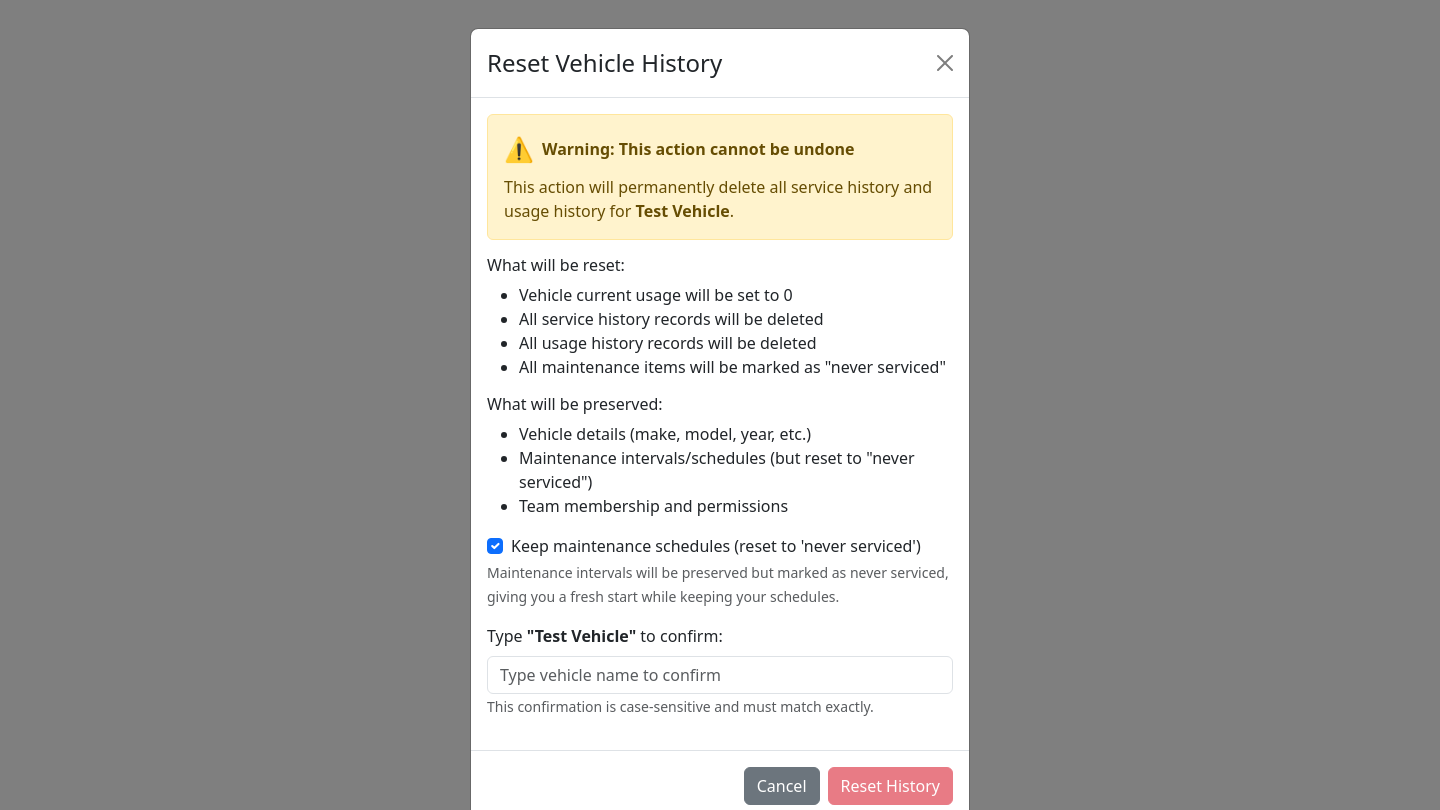
Test: ResetVehicleHistoryModal › Error Handling › should show error message on reset failure
The width and height of the screenshot is (1440, 810).
Type "Test Vehicle" into the field with placeholder "Type vehicle name to confirm" at [720, 675], box [487, 656, 953, 694]
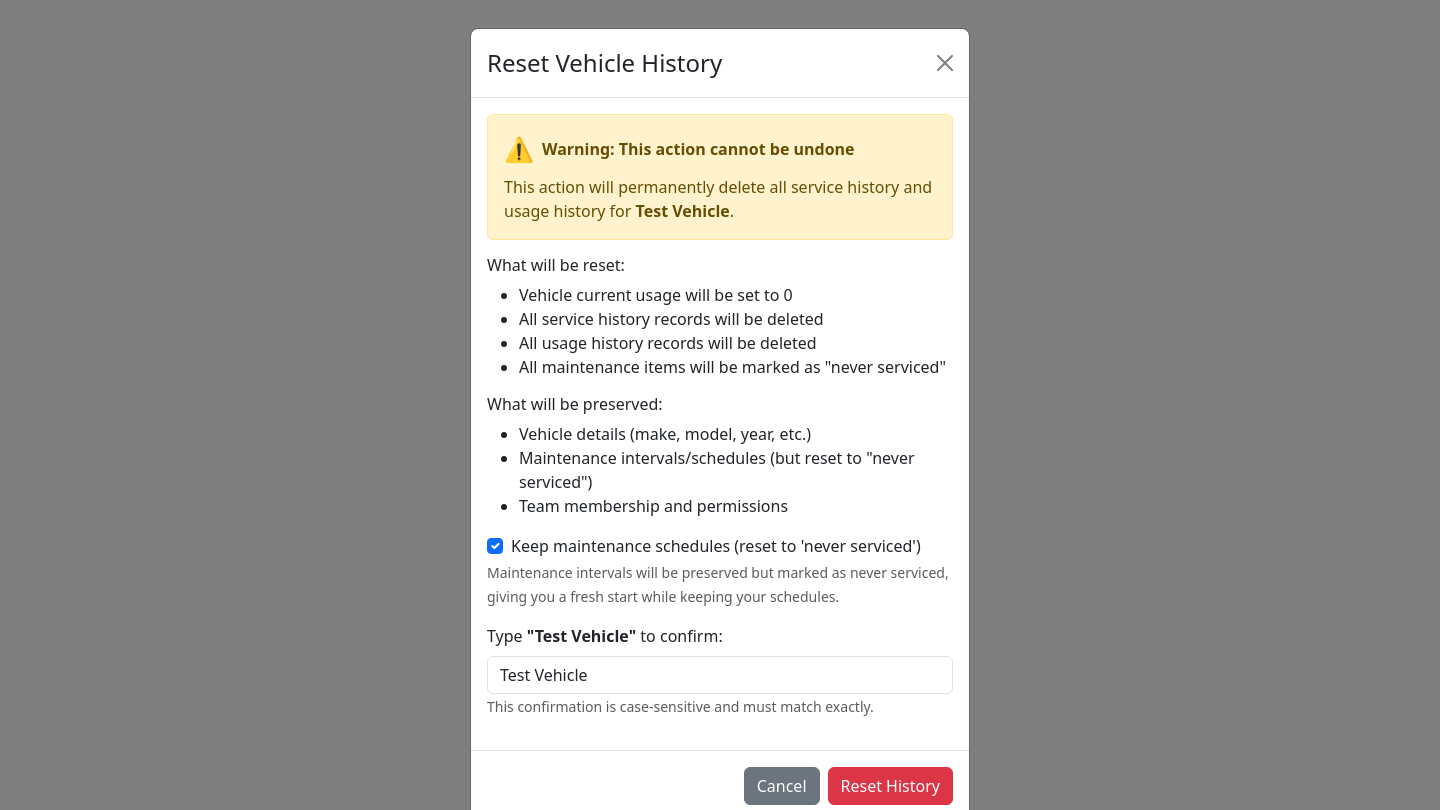
Click the button "Reset History" at [890, 786], box [828, 767, 953, 805]
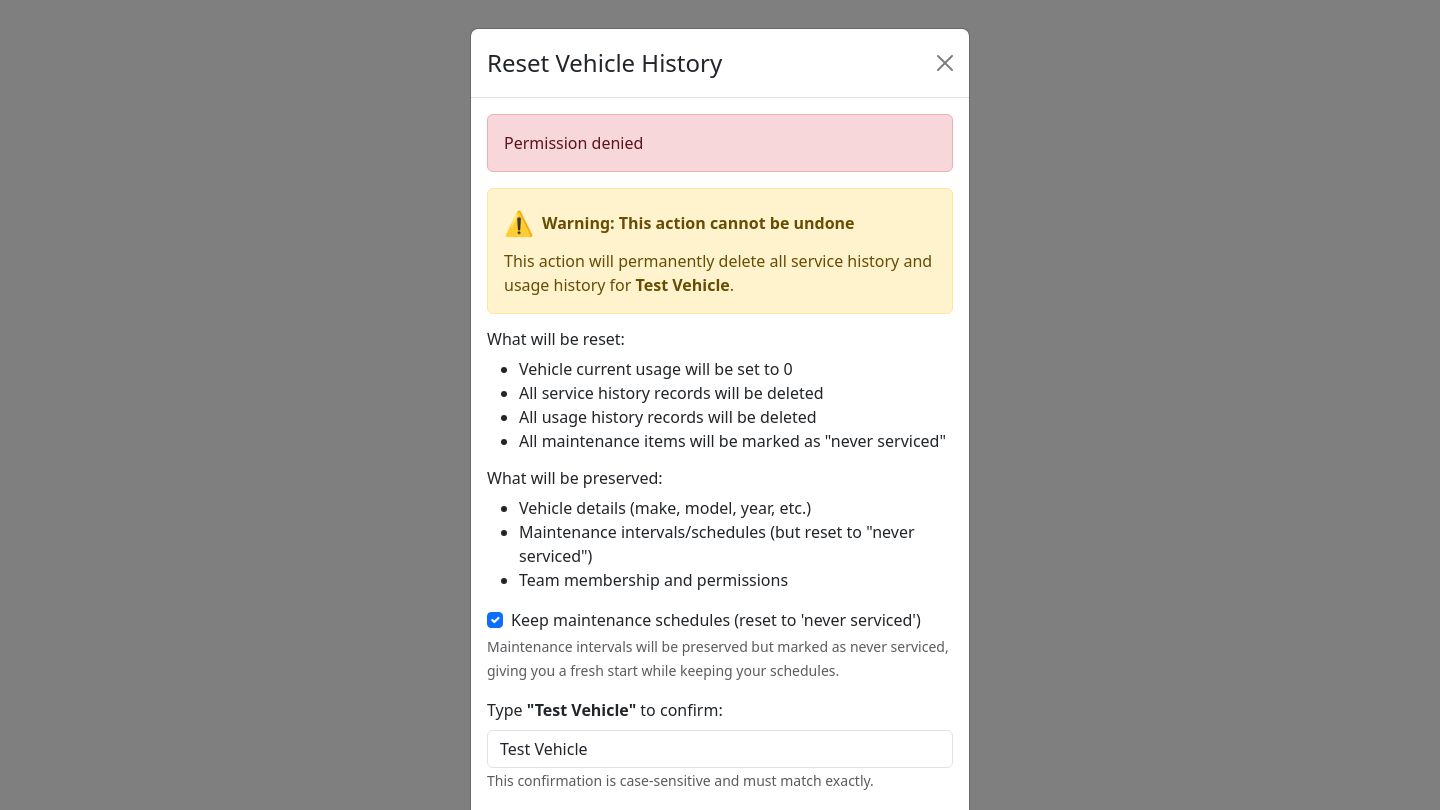
Now the text "Permission denied" is shown, box [487, 114, 953, 172]
